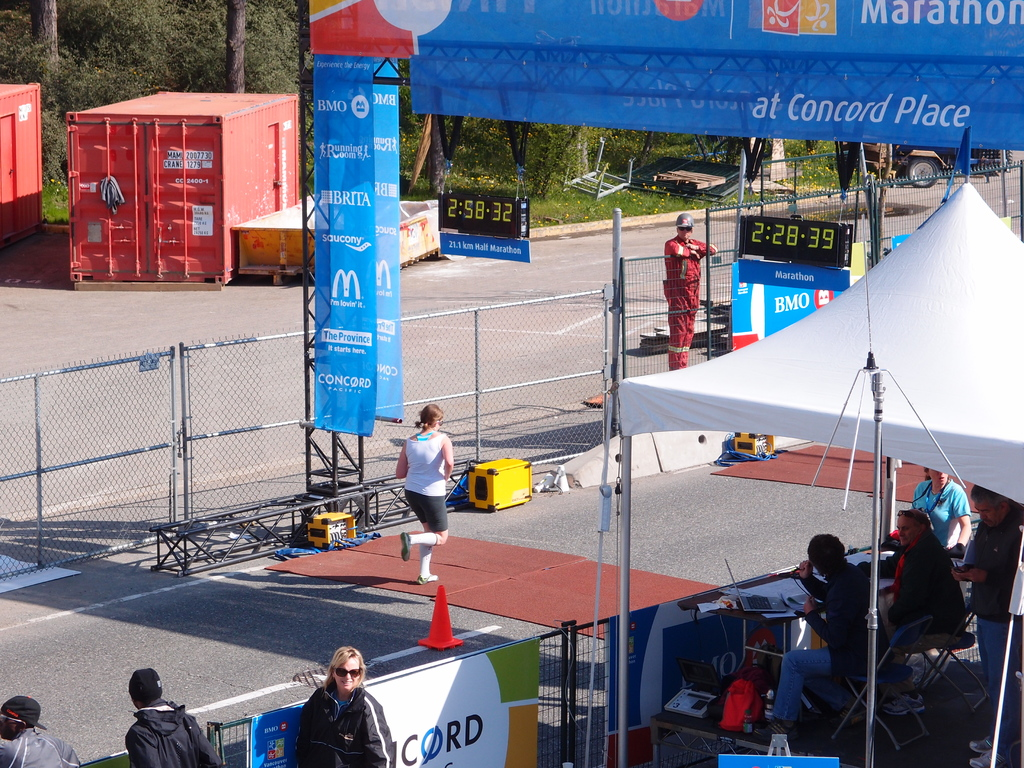Person: (753, 534, 893, 740), (858, 507, 966, 714), (951, 484, 1023, 768), (296, 647, 395, 768), (121, 667, 223, 768), (396, 402, 451, 583), (664, 213, 717, 368), (0, 696, 82, 768), (912, 468, 971, 548)
